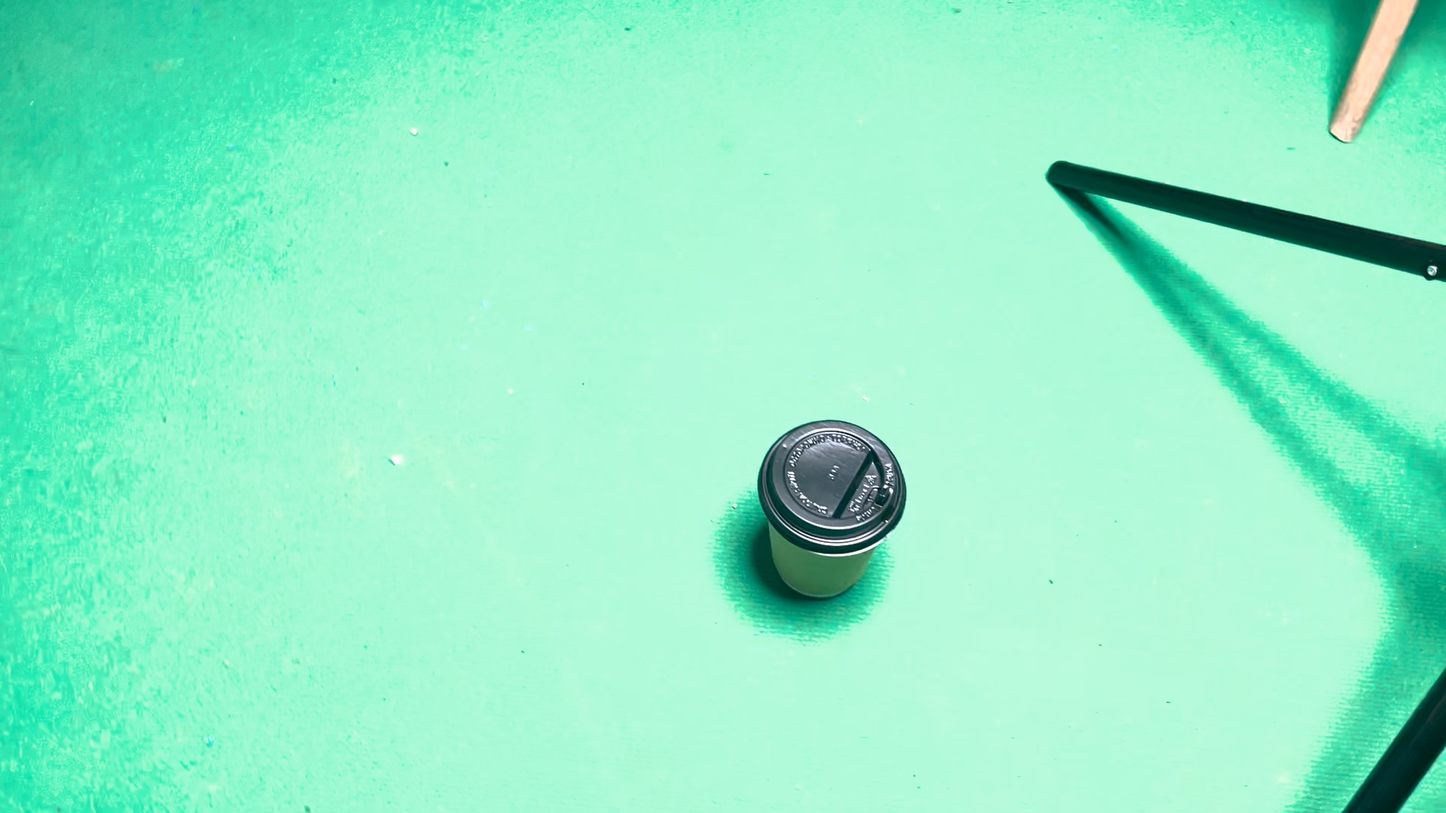cup: (725, 470, 830, 611)
